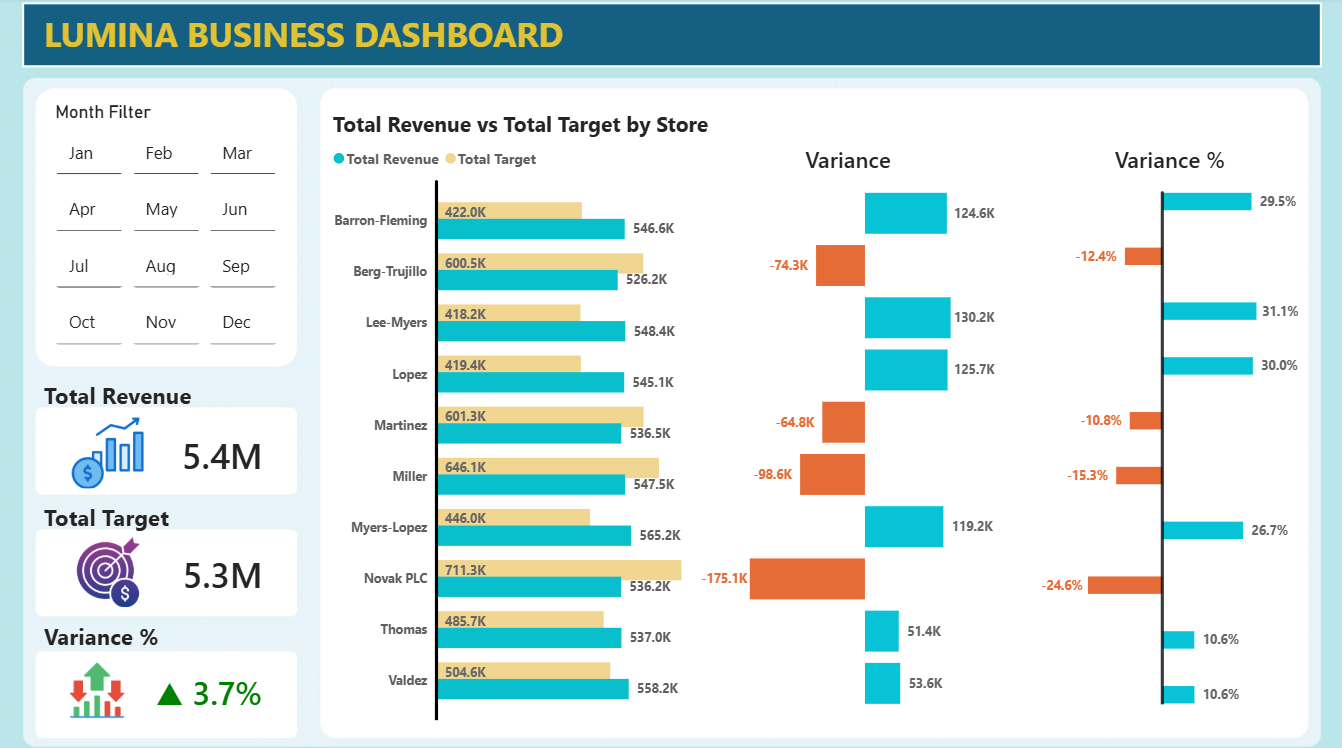

The page's visual inventory and layout, read from the dashboard file:
{"tool":"powerbi","page":{"name":"Store Analysis","canvas":[1280,720],"ordinal":1},"visuals":[{"type":"clusteredBarChart","title":"Total Revenue vs Total Target by Store","fields":{"Category":["sales_persons_table.Store Name"],"Y":["fact_table.Total Revenue","monthly_store_targets.Total Target"]},"box":[311.9,107.1,367.9,586.9],"z":0},{"type":"clusteredBarChart","title":"Variance","fields":{"Y":["Key Measures.Variance"],"Category":["sales_persons_table.Store Name"]},"box":[663.1,139.3,289.3,539.3],"z":1000},{"type":"clusteredBarChart","title":"Variance %","fields":{"Category":["sales_persons_table.Store Name"],"Y":["Key Measures.% Variance"]},"box":[986.9,139.3,254.8,539.3],"z":2000},{"type":"advancedSlicerVisual","fields":{"Values":["Dimension Date.Month Name"]},"box":[47.6,98.8,221.4,239.3],"z":3000},{"type":"cardVisual","fields":{"Data":["Key Measures.Total Revenue"]},"box":[36.9,383.3,242.9,102.4],"z":4000},{"type":"cardVisual","fields":{"Data":["Key Measures.Total Target"]},"box":[36.9,496.4,242.9,102.4],"z":5000},{"type":"cardVisual","fields":{"Data":["Key Measures.Vraince % Indicator"]},"box":[36.9,609.5,242.9,102.4],"z":6000},{"type":"textbox","box":[36.9,8.3,514.3,63.1],"z":7000},{"type":"textbox","box":[36.9,359.5,169,50],"z":8000},{"type":"textbox","box":[36.9,476.2,157.1,39.3],"z":9000},{"type":"textbox","box":[36.9,589.3,129.8,39.3],"z":10000}]}

Visuals, with their boxes in screenshot pixels (x1, y1, x2, y2), scaled from the page's 1280x720 canvas onto the 1342x748 screenshot:
"Total Revenue vs Total Target by Store" clusteredBarChart: x1=327 y1=111 x2=713 y2=721
"Variance" clusteredBarChart: x1=695 y1=145 x2=999 y2=705
"Variance %" clusteredBarChart: x1=1035 y1=145 x2=1302 y2=705
advancedSlicerVisual - Dimension Date.Month Name: x1=50 y1=103 x2=282 y2=351
cardVisual - Key Measures.Total Revenue: x1=39 y1=398 x2=293 y2=505
cardVisual - Key Measures.Total Target: x1=39 y1=516 x2=293 y2=622
cardVisual - Key Measures.Vraince % Indicator: x1=39 y1=633 x2=293 y2=740
textbox: x1=39 y1=9 x2=578 y2=74
textbox: x1=39 y1=373 x2=216 y2=425
textbox: x1=39 y1=495 x2=203 y2=536
textbox: x1=39 y1=612 x2=175 y2=653
